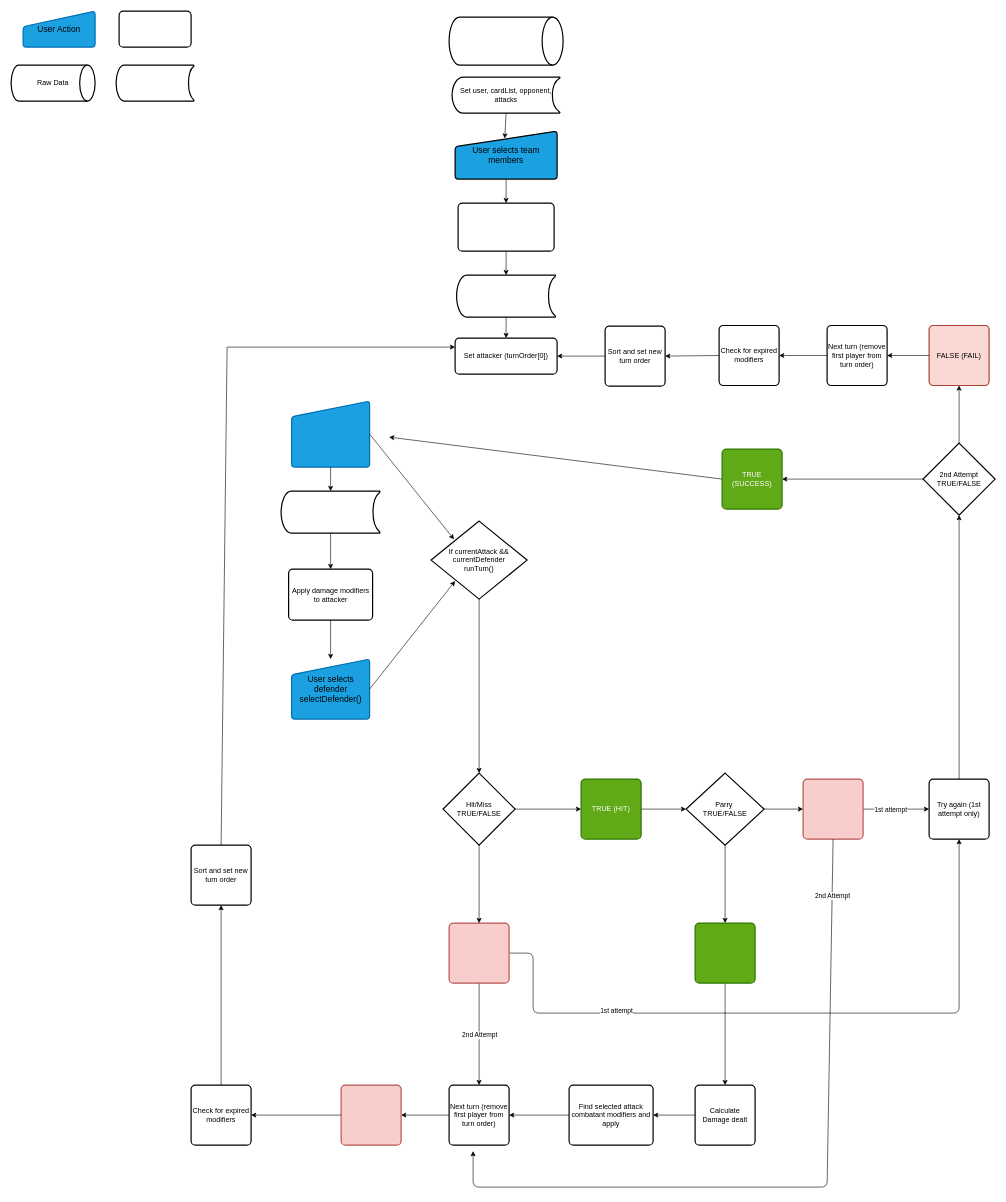
This 1006x1202 diagram has some shape labels left out. The shapes that lost their labels are listed below. From the top down, each one's box as (x1, y1, x2, y2) in pixels, then its label:
(118, 10, 191, 47): Process
(448, 16, 563, 65): Fetch User Database
(115, 64, 194, 101): Stored Data
(457, 202, 554, 251): Collect all players and sort by speed etc
(456, 274, 556, 317): Set turn order
(291, 400, 370, 467): User Selects attack type specialAttack()
(280, 490, 380, 533): store current attack
(802, 778, 863, 839): TRUE (PARRIED)
(448, 922, 509, 983): FALSE (MISS)
(694, 922, 755, 983): FALSE (NO PARRY)
(340, 1084, 401, 1145): Remove deceased players from turn order
